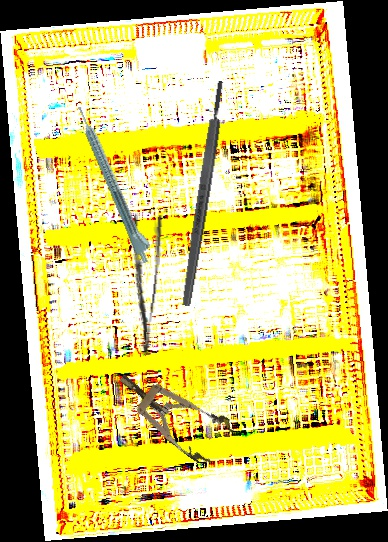Dressing Forceps: (119, 212, 165, 355)
Handpiece: (73, 102, 158, 265)
Scalpel Handle: (179, 80, 228, 307)
Speculum: (106, 354, 238, 470)
